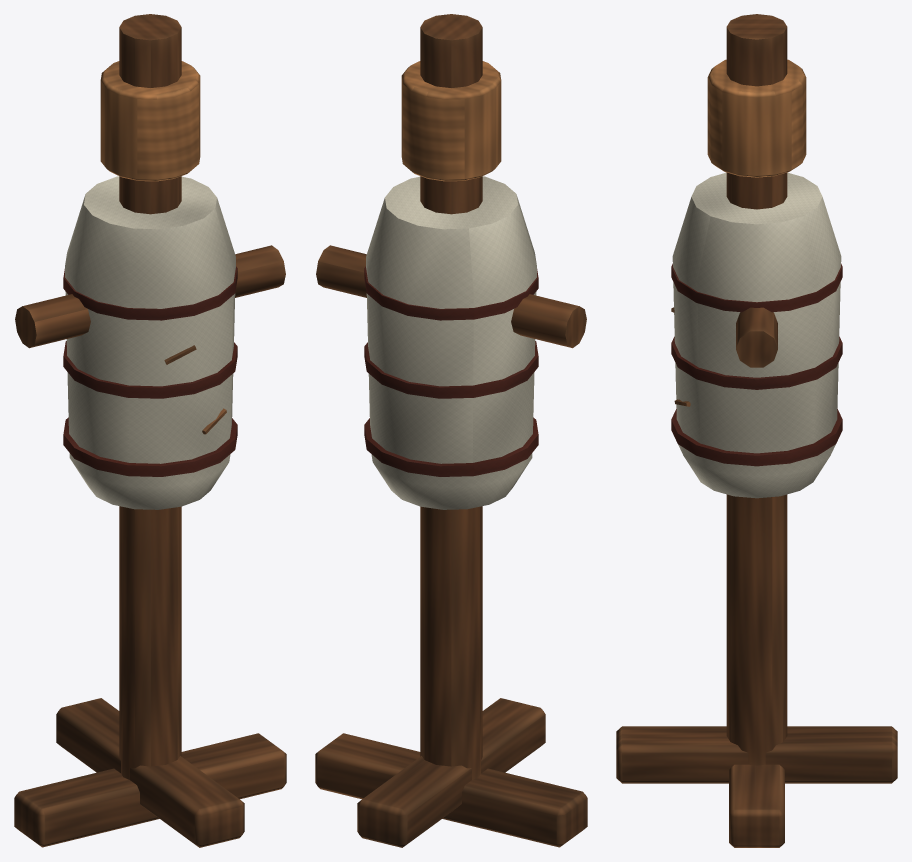
Rendered from Furn_TrainingDummy.fbx.
3 renders of one model, left to right at view 1: azimuth 30°, elevation 25°; view 2: azimuth 150°, elevation 25°; view 3: azimuth 270°, elevation 25°, orthographic. The views are drawn at different scales.
Visible parts, largest first — view 1: Furn_TrainingDummy; view 2: Furn_TrainingDummy; view 3: Furn_TrainingDummy.
Boxes of the visible parts, left/top/right/bottom form: Furn_TrainingDummy: left=14, top=14, right=286, bottom=847; Furn_TrainingDummy: left=315, top=14, right=587, bottom=847; Furn_TrainingDummy: left=616, top=14, right=897, bottom=847.
Size of the model in its own units: 0.6 by 1.8 by 0.6.
Materials: 4 (4 with a texture image).
